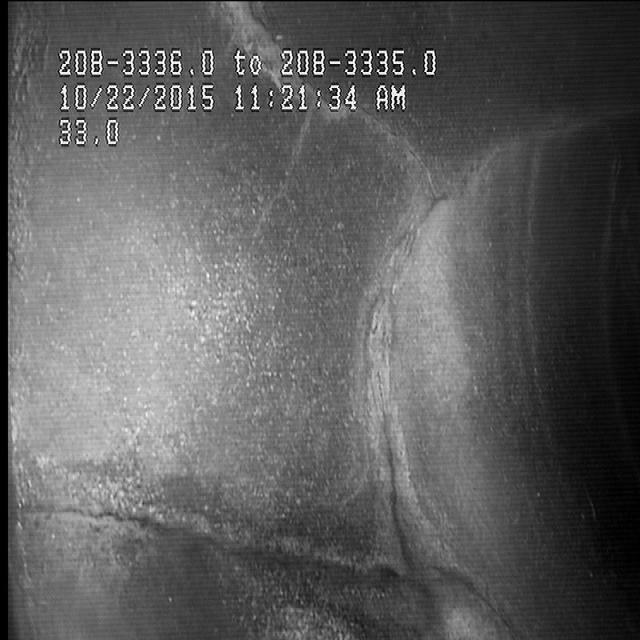Crack: (343, 133, 461, 554), (32, 476, 324, 584)
